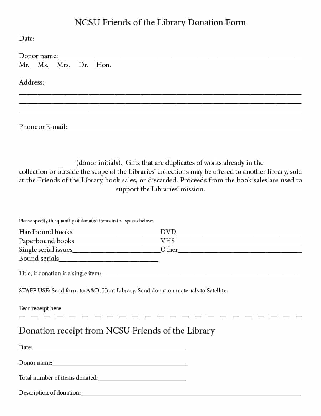textline: (67, 118, 306, 132), (17, 86, 304, 97), (58, 49, 303, 61), (80, 385, 304, 397), (17, 106, 306, 114), (17, 97, 305, 105), (100, 267, 302, 278), (31, 341, 189, 351), (176, 225, 304, 237), (51, 357, 189, 367), (178, 246, 306, 255), (58, 255, 161, 264), (97, 372, 188, 382), (73, 236, 160, 246), (73, 246, 162, 255), (73, 228, 161, 237), (175, 240, 305, 246), (56, 156, 76, 168)
